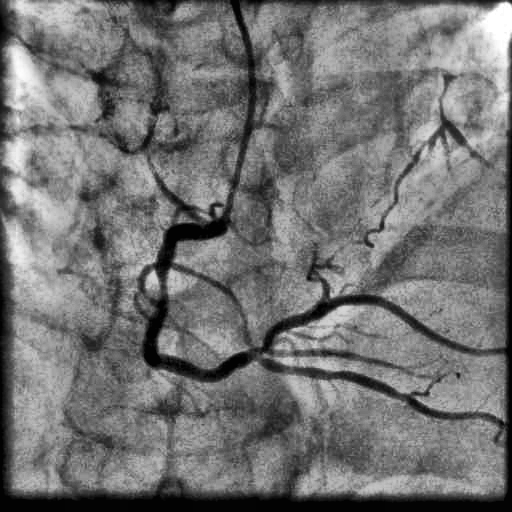pborca: (260, 295, 506, 356)
pda: (259, 356, 507, 445)
rca: (142, 221, 260, 382)
